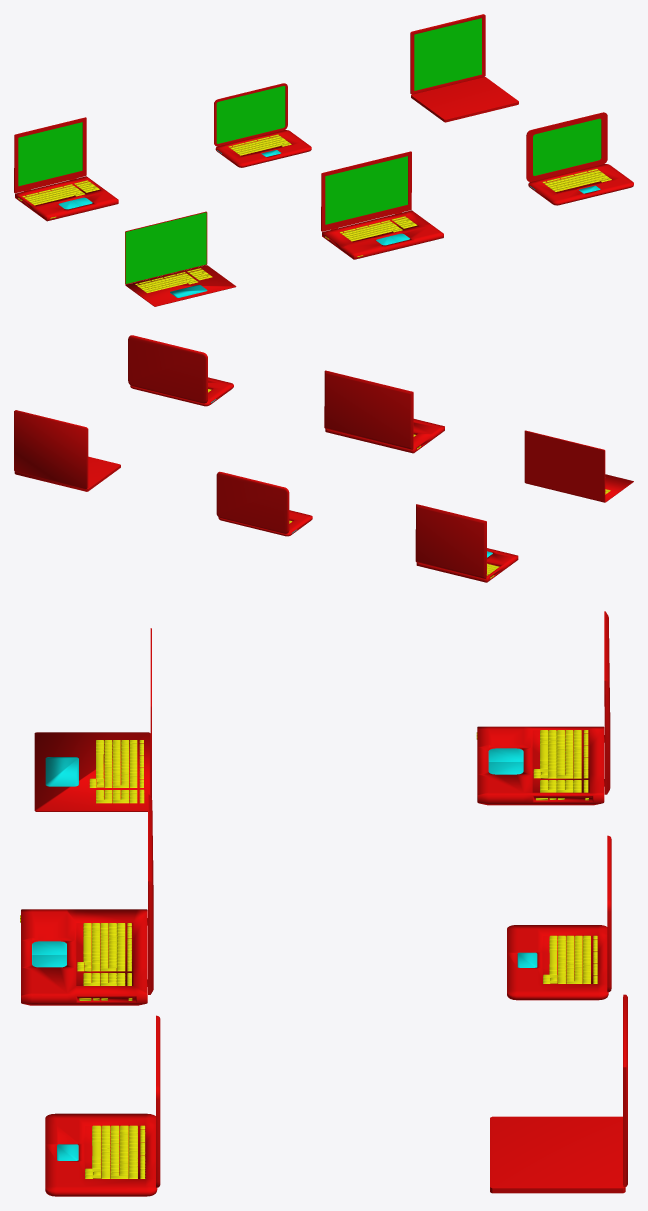
File: laptops_grp.fbx
The picture shows the model from 3 angles, top to bottom: view 1: azimuth 30°, elevation 25°; view 2: azimuth 150°, elevation 25°; view 3: azimuth 270°, elevation 25°; orthographic projection. The views are drawn at different scales.
Parts seen in each view (by area): view 1: laptop_lid_3, laptop_lid_6, laptop_lid_1, laptop_lid_2, laptop_lid_5, laptop_lid_4, laptop_3, laptop_6, laptop_2, laptop_5, laptop_1, laptop_4; view 2: laptop_lid_3, laptop_lid_6, laptop_lid_1, laptop_lid_2, laptop_lid_5, laptop_lid_4, laptop_3, laptop_2, laptop_6, laptop_5, laptop_4, laptop_1; view 3: laptop_3, laptop_6, laptop_2, laptop_1, laptop_5, laptop_4, laptop_lid_2, laptop_lid_3, laptop_lid_6, laptop_lid_5.
Boxes of the visible parts, left/top/right/bottom form: laptop_lid_3: left=321, top=151, right=411, bottom=231; laptop_lid_6: left=410, top=14, right=485, bottom=94; laptop_lid_1: left=125, top=211, right=207, bottom=284; laptop_lid_2: left=14, top=117, right=86, bottom=193; laptop_lid_5: left=526, top=112, right=607, bottom=181; laptop_lid_4: left=214, top=83, right=287, bottom=146; laptop_3: left=322, top=210, right=443, bottom=259; laptop_6: left=411, top=77, right=518, bottom=122; laptop_2: left=15, top=176, right=118, bottom=221; laptop_5: left=528, top=164, right=633, bottom=205; laptop_1: left=125, top=265, right=236, bottom=306; laptop_4: left=215, top=130, right=311, bottom=167; laptop_lid_3: left=324, top=370, right=413, bottom=449; laptop_lid_6: left=14, top=410, right=88, bottom=488; laptop_lid_1: left=524, top=430, right=605, bottom=502; laptop_lid_2: left=415, top=504, right=486, bottom=578; laptop_lid_5: left=128, top=335, right=207, bottom=403; laptop_lid_4: left=216, top=471, right=289, bottom=533; laptop_3: left=325, top=419, right=444, bottom=453; laptop_2: left=416, top=548, right=518, bottom=582; laptop_6: left=14, top=456, right=120, bottom=491; laptop_5: left=130, top=377, right=233, bottom=406; laptop_4: left=218, top=510, right=312, bottom=536; laptop_1: left=526, top=474, right=633, bottom=502; laptop_3: left=20, top=909, right=147, bottom=1005; laptop_6: left=490, top=1116, right=625, bottom=1193; laptop_2: left=476, top=726, right=604, bottom=805; laptop_1: left=34, top=732, right=150, bottom=811; laptop_5: left=45, top=1113, right=157, bottom=1196; laptop_4: left=507, top=925, right=608, bottom=1000; laptop_lid_2: left=604, top=611, right=610, bottom=794; laptop_lid_3: left=148, top=794, right=153, bottom=994; laptop_lid_6: left=623, top=994, right=627, bottom=1186; laptop_lid_5: left=156, top=1015, right=160, bottom=1187.
Size of the model in its own units: 241 by 31.35 by 133.
